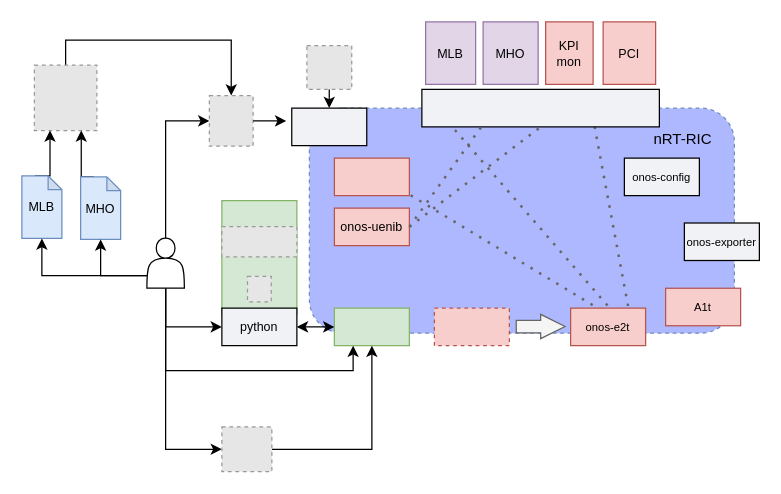
This 781x494 diagram has some shape labels left out. Grey dashed boxes stand in for pictures. The shapes that lost their labels are listed below. From the top down, each one's centre as x and y in pixels, then its label:
(x=328, y=126): onos-operator
(x=540, y=107): onos-ric-sdk-go
(x=371, y=176): onos-topo (R-NIB)
(x=371, y=326): onos-cli
(x=471, y=326): onos-e2-sm
